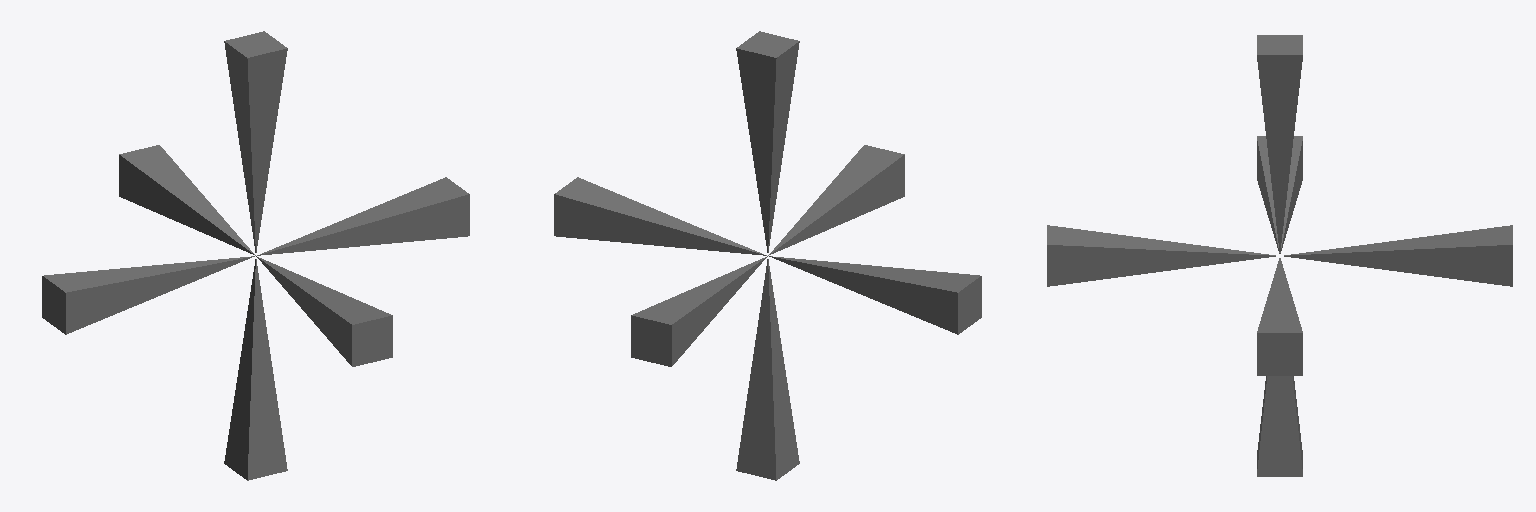
File: LocatorXYZDraw.obj
3 views of the same model, side by side, from view 1: azimuth 30°, elevation 25°; view 2: azimuth 150°, elevation 25°; view 3: azimuth 270°, elevation 25° (orthographic).
Parts seen in each view (by area): view 1: LocatorY, LocatorX, LocatorZ; view 2: LocatorY, LocatorX, LocatorZ; view 3: LocatorZ, LocatorY, LocatorX.
Part boxes in pixels (left/top/right/bottom): LocatorY: left=224, top=31, right=287, bottom=480; LocatorX: left=42, top=177, right=469, bottom=334; LocatorZ: left=119, top=145, right=392, bottom=366; LocatorY: left=736, top=31, right=799, bottom=480; LocatorX: left=554, top=177, right=981, bottom=334; LocatorZ: left=631, top=145, right=904, bottom=366; LocatorZ: left=1047, top=225, right=1512, bottom=286; LocatorY: left=1257, top=35, right=1302, bottom=476; LocatorX: left=1257, top=136, right=1302, bottom=375.
Size of the model in its own units: 1 by 1 by 1.